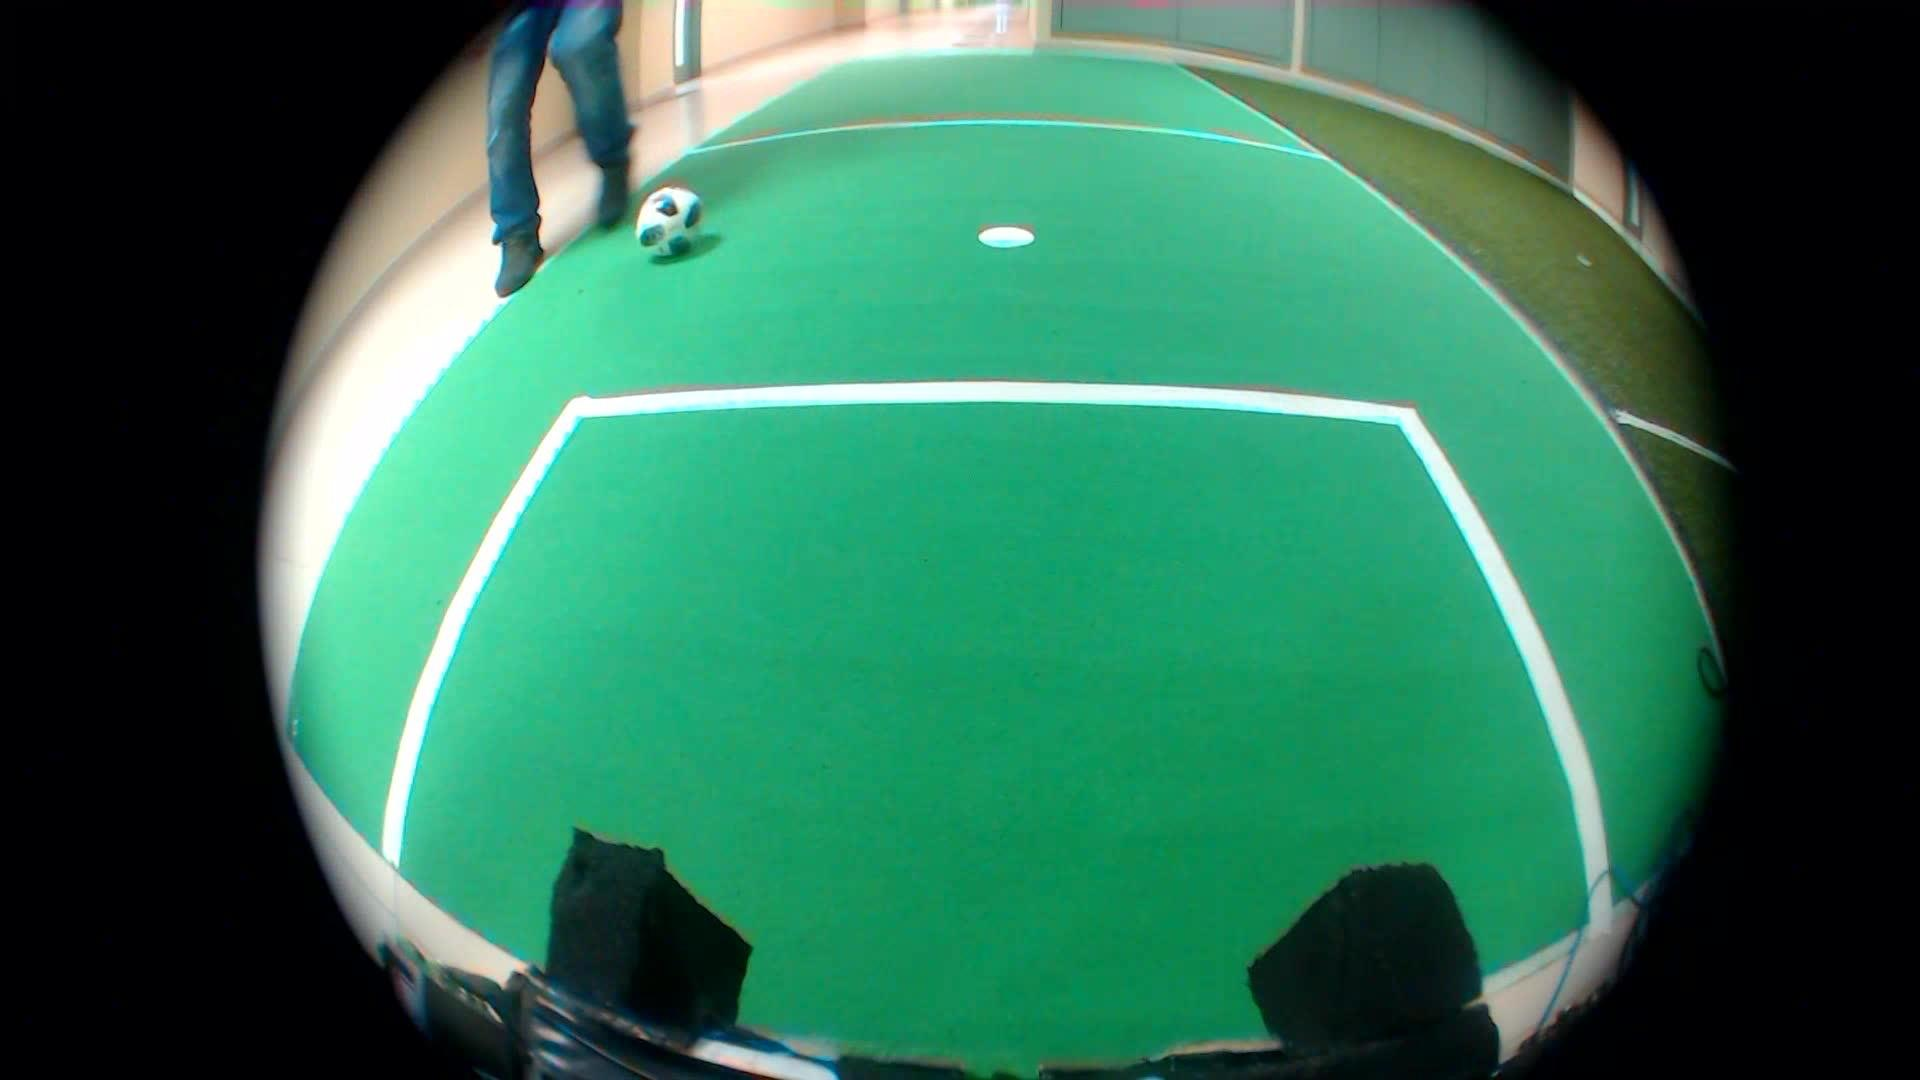ball: (629, 175, 709, 256)
